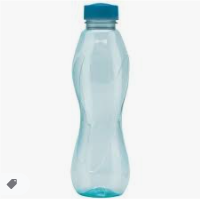Bottle: (73, 3, 130, 197)
